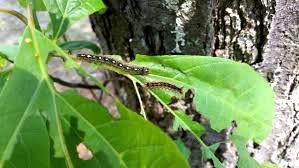Caterpillar: (68, 50, 153, 76), (139, 79, 187, 95)
